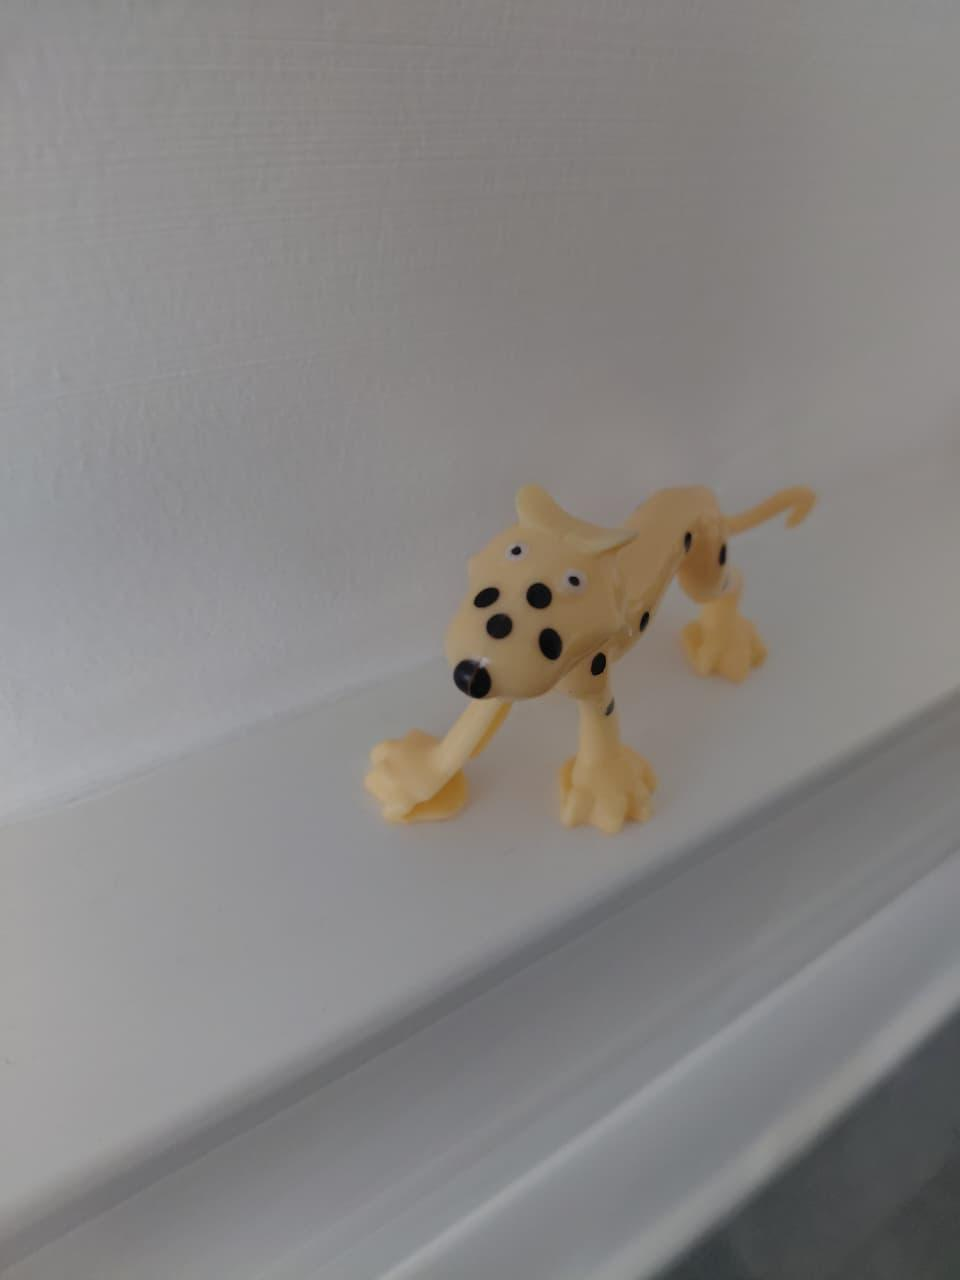cheetah: (340, 435, 844, 871)
